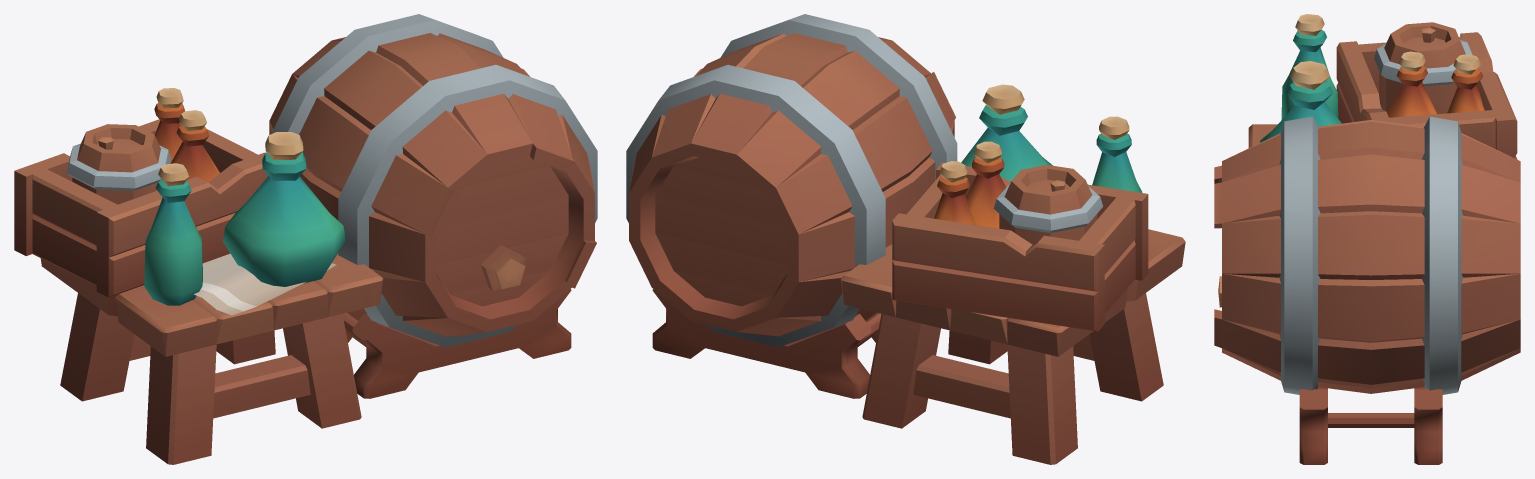
File: keg_decorated.glb
3 views of the same model, side by side, from view 1: azimuth 30°, elevation 25°; view 2: azimuth 150°, elevation 25°; view 3: azimuth 270°, elevation 25° (orthographic). The views are drawn at different scales.
Visible parts, largest first — view 1: keg_decorated; view 2: keg_decorated; view 3: keg_decorated.
Boxes of the visible parts, x1,y1,x2,y2 form: keg_decorated: (14,14,597,464); keg_decorated: (626,14,1185,464); keg_decorated: (1214,14,1520,464).
Bounding box in the file's own units: 3.52 × 2.05 × 2.
1 material, 1 textured.
